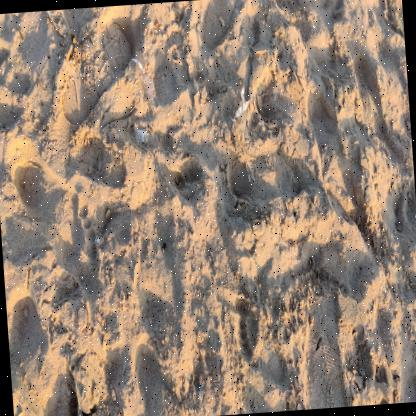Plastic film: (132, 59, 157, 114), (232, 80, 254, 133)
Unlabeled litter: (137, 129, 149, 142)
